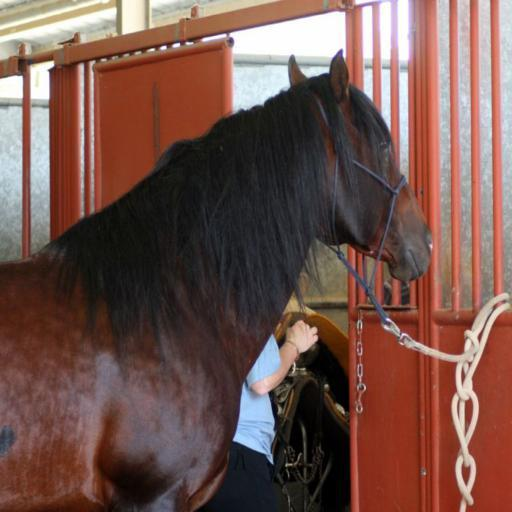horse: (0, 52, 432, 512)
